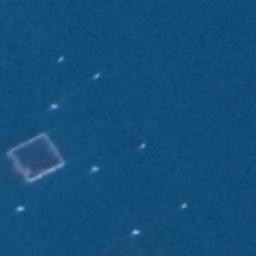square_solid: (5, 130, 70, 185)
